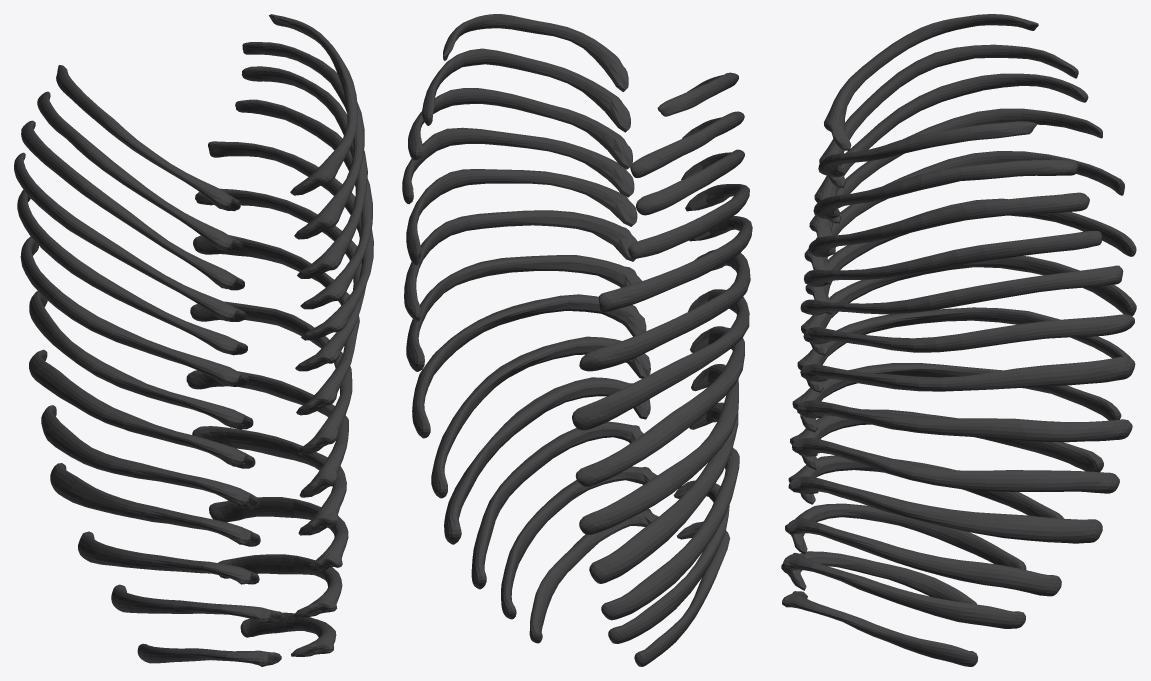
Rendered from 23_2_24_rib_cage_skin_resized_LP.glb.
3 views of the same model, side by side, from view 1: azimuth 30°, elevation 25°; view 2: azimuth 150°, elevation 25°; view 3: azimuth 270°, elevation 25° (orthographic). The views are drawn at different scales.
Visible parts, largest first — view 1: 23_2_24_rib_cage_skin_resized_LP; view 2: 23_2_24_rib_cage_skin_resized_LP; view 3: 23_2_24_rib_cage_skin_resized_LP.
Boxes of the visible parts, x1,y1,x2,y2 form: 23_2_24_rib_cage_skin_resized_LP: (14,14,373,666); 23_2_24_rib_cage_skin_resized_LP: (402,14,752,666); 23_2_24_rib_cage_skin_resized_LP: (781,14,1136,666).
Size of the model in its own units: 50.11 by 96.55 by 54.08.
Materials: 1 (1 with a texture image).
